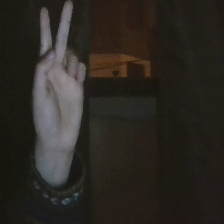K: (28, 1, 100, 163)
